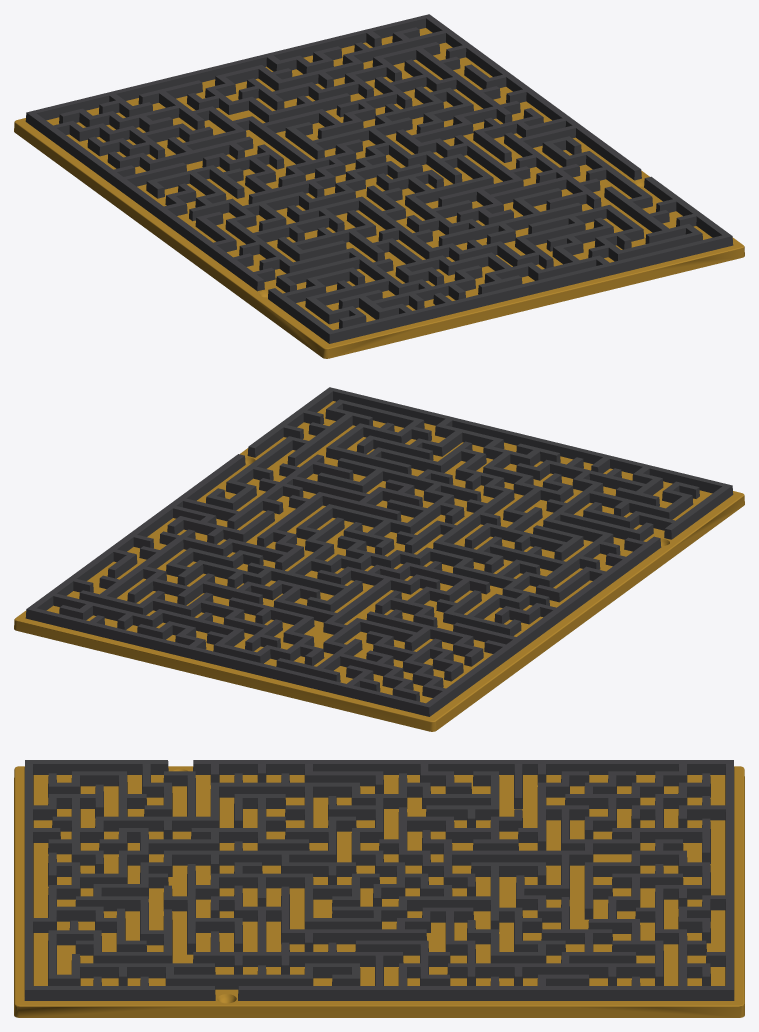
File: laberinto_L3.glb
The picture shows the model from 3 angles, top to bottom: view 1: azimuth 30°, elevation 25°; view 2: azimuth 150°, elevation 25°; view 3: azimuth 270°, elevation 25°; orthographic projection. The views are drawn at different scales.
Visible parts, largest first — view 1: Object_2, Object_3, Object_4; view 2: Object_3, Object_2, Object_4; view 3: Object_3, Object_2, Object_4.
Boxes of the visible parts, x1=… form: Object_2: x1=146, y1=86, x2=733, y2=343; Object_3: x1=25, y1=14, x2=641, y2=291; Object_4: x1=14, y1=28, x2=744, y2=358; Object_3: x1=25, y1=454, x2=661, y2=716; Object_2: x1=166, y1=387, x2=733, y2=636; Object_4: x1=14, y1=401, x2=744, y2=731; Object_3: x1=193, y1=760, x2=734, y2=1000; Object_2: x1=24, y1=760, x2=565, y2=1000; Object_4: x1=14, y1=766, x2=744, y2=1017.
Bounding box in the file's own units: 1574 × 69.3 × 2022.
